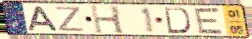1: (140, 6, 156, 34)
A: (27, 6, 60, 32)
D: (163, 6, 193, 34)
E: (193, 7, 226, 35)
H: (89, 4, 127, 35)
Z: (54, 5, 86, 32)
